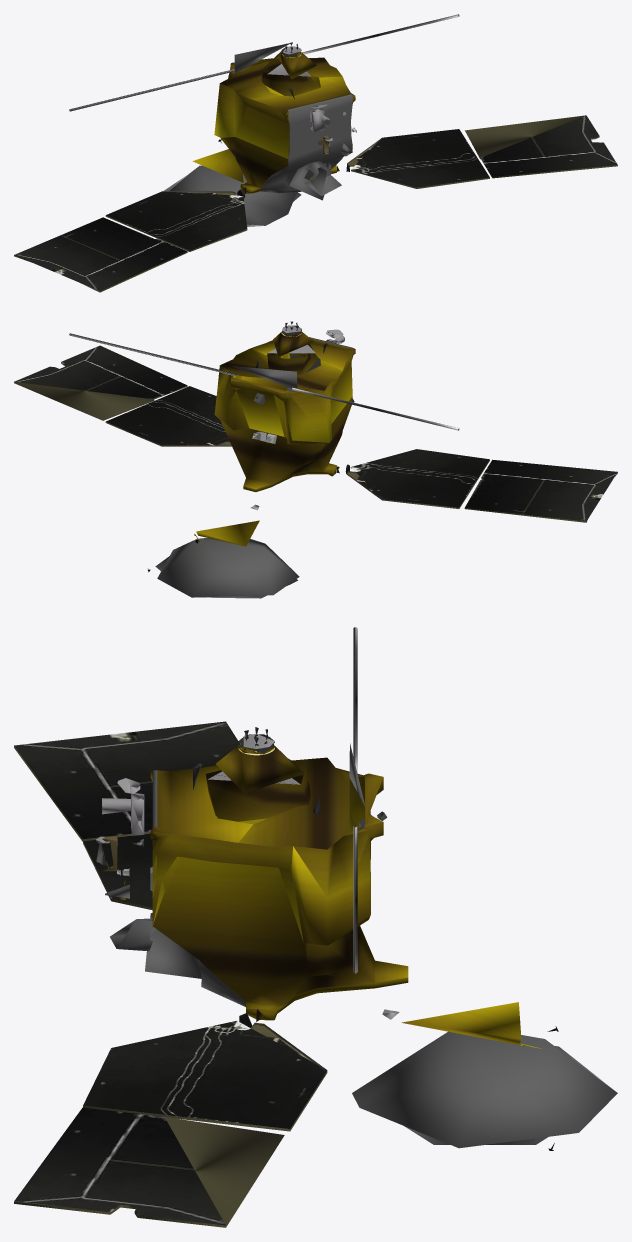
Rendered from mars-reconnaissance-orbiter-mro-c.glb.
The picture shows the model from 3 angles, top to bottom: view 1: azimuth 30°, elevation 25°; view 2: azimuth 150°, elevation 25°; view 3: azimuth 270°, elevation 25°; orthographic projection. The views are drawn at different scales.
Parts seen in each view (by area): view 1: tex_01, tex_02, foil_gold, black_krinkle, foil_silver2; view 2: foil_gold, tex_01, tex_02, black_krinkle, foil_silver2; view 3: foil_gold, tex_01, black_krinkle, tex_02, foil_silver2.
Boxes of the visible parts, <box> form: tex_01: <box>14,46,617,292</box>; tex_02: <box>106,129,489,250</box>; foil_gold: <box>192,51,355,193</box>; black_krinkle: <box>169,43,352,225</box>; foil_silver2: <box>69,14,459,226</box>; foil_gold: <box>194,331,355,550</box>; tex_01: <box>14,325,617,572</box>; tex_02: <box>106,386,489,507</box>; black_krinkle: <box>157,337,351,597</box>; foil_silver2: <box>69,321,459,598</box>; foil_gold: <box>120,744,541,1048</box>; tex_01: <box>14,721,558,1227</box>; black_krinkle: <box>96,743,617,1148</box>; tex_02: <box>83,833,327,1128</box>; foil_silver2: <box>193,627,615,1144</box>.
Size of the model in its own units: 13.18 by 4.88 by 6.68.
5 materials, 4 textured.
